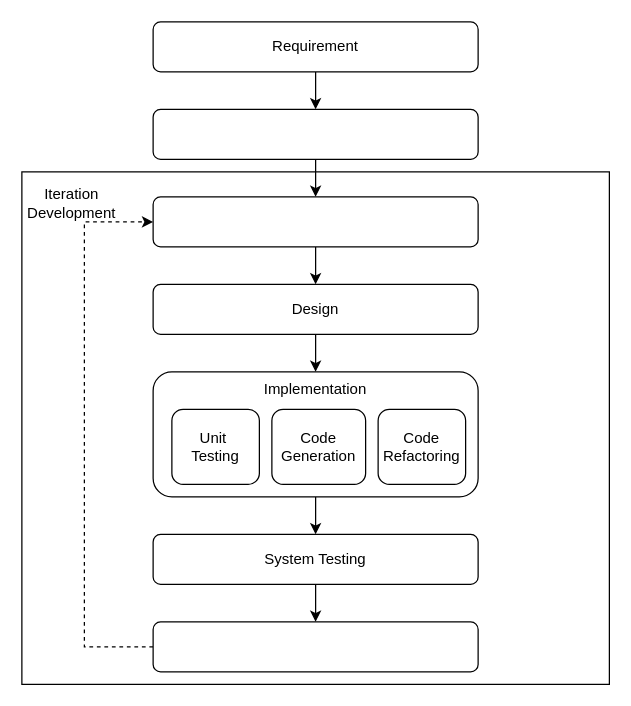
This 631x706 diagram has some shape labels left out. The shapes that lost their labels are listed below. From the top down, each one's centre as x and y in pixels, then its label:
At point 315,133: "Planning".
At point 315,221: "Iteration Inizialisation".
At point 315,646: "Restroprective".
